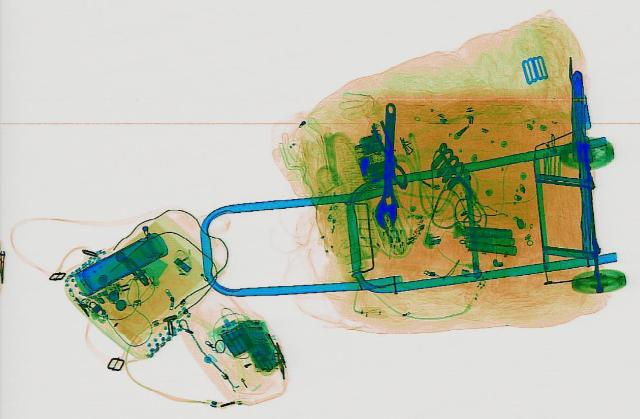Wrench: (373, 101, 402, 228)
